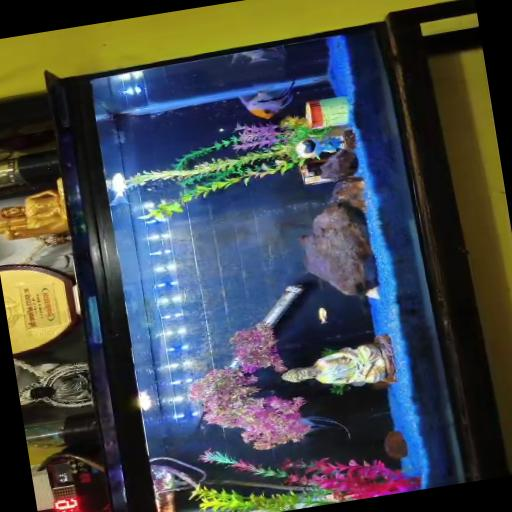Fish: (240, 80, 295, 119), (302, 416, 351, 437), (232, 46, 286, 63), (110, 174, 130, 206), (319, 308, 328, 324)
